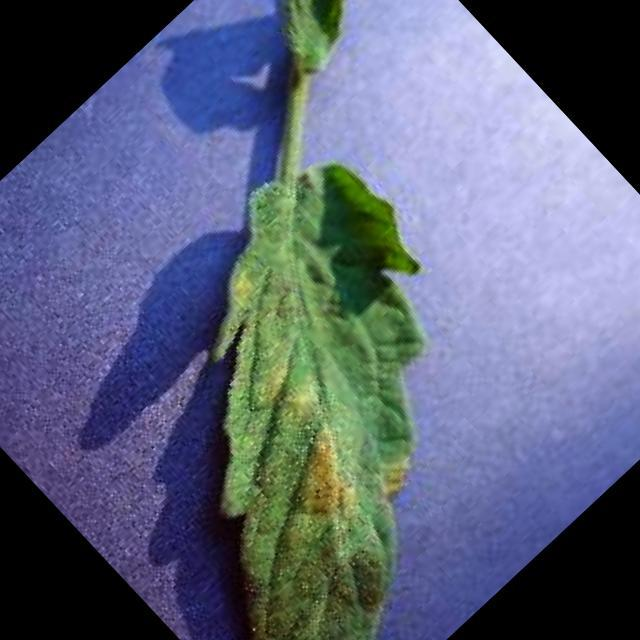Tomato mold leaf: (1, 126, 633, 640)
